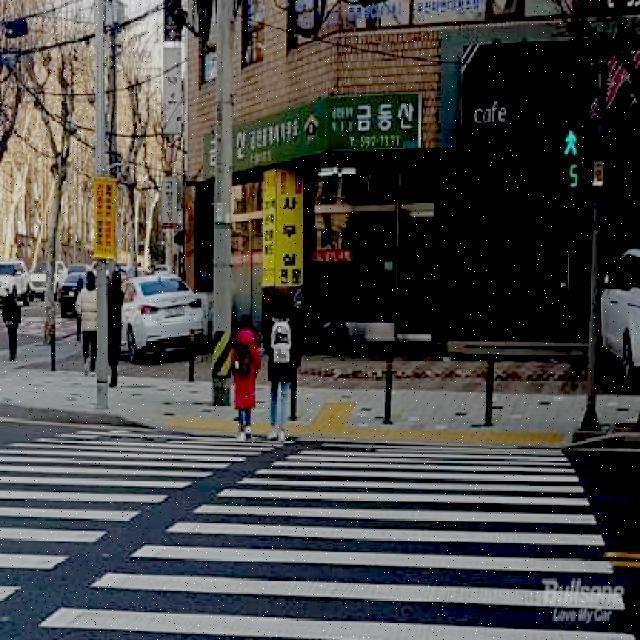crosswalk: (39, 439, 634, 636), (0, 423, 297, 598)
